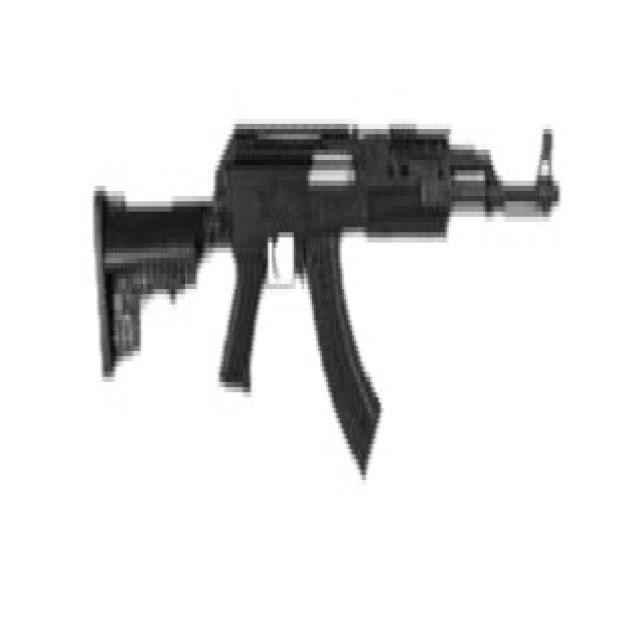rifle: (94, 71, 566, 487)
